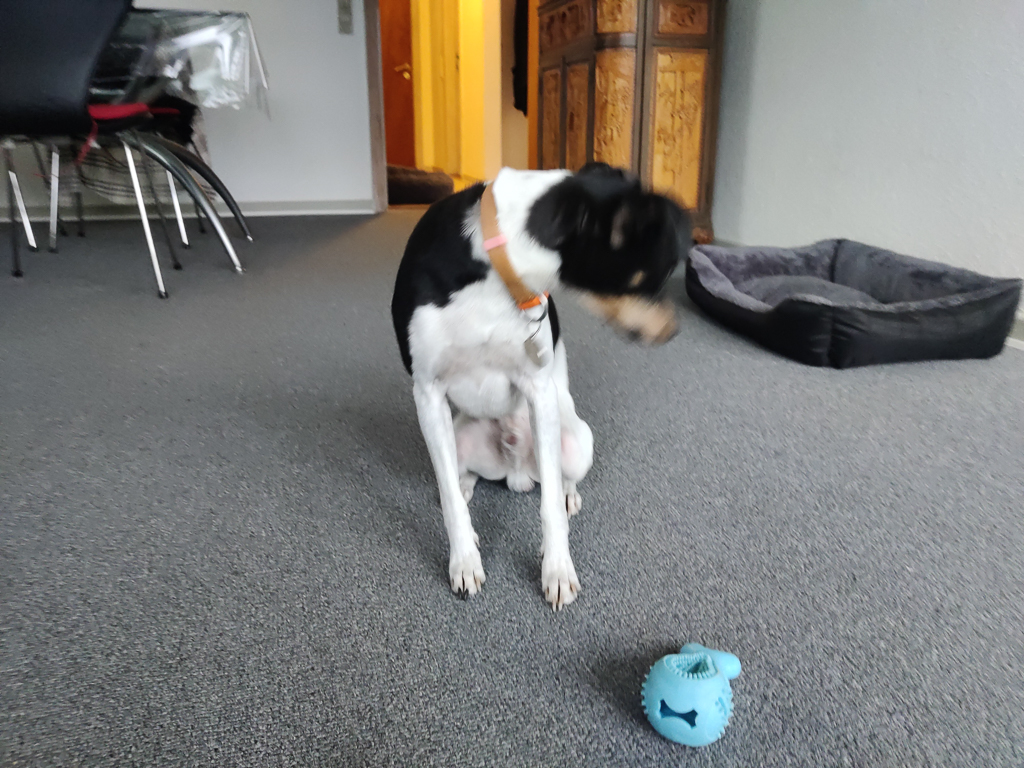Dog: (372, 126, 734, 628)
